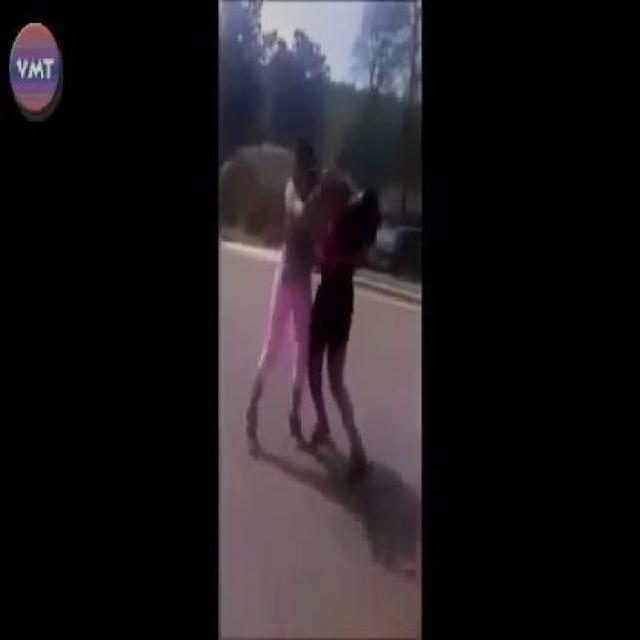fight: (237, 129, 385, 502)
